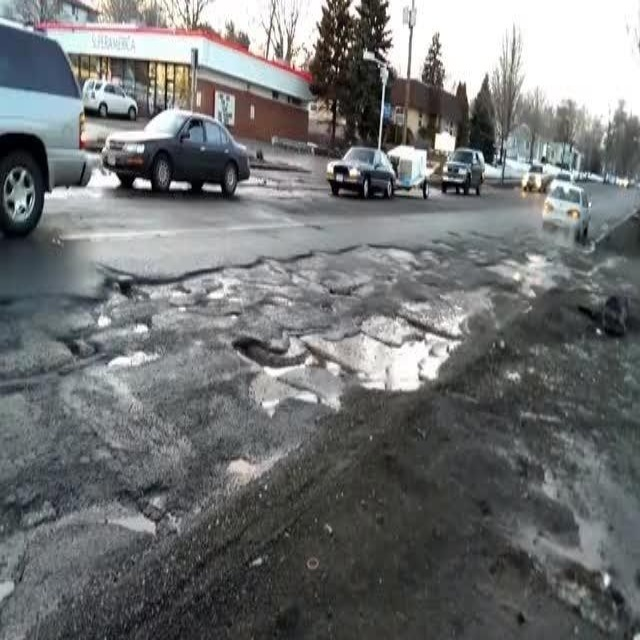pothole: (244, 331, 421, 403), (111, 301, 198, 384), (126, 459, 182, 551), (225, 448, 281, 506), (499, 251, 559, 297), (331, 273, 379, 316)
